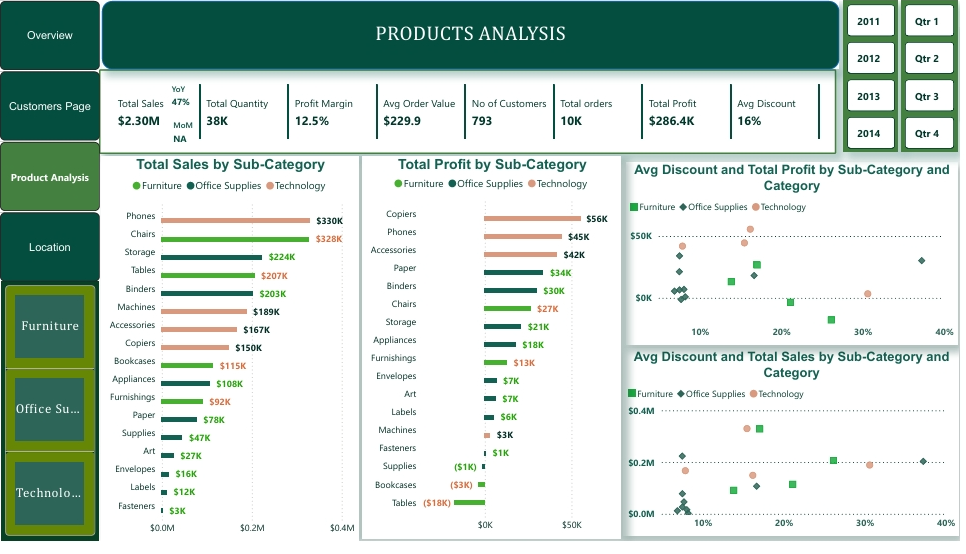

The page's visual inventory and layout, read from the dashboard file:
{"tool":"powerbi","page":{"name":"Product Analysis","canvas":[1280,720],"ordinal":2},"visuals":[{"type":"scatterChart","fields":{"X":["Superstore Sales.Avg Discount"],"Y":["Superstore Sales.Total Sales"],"Category":["Products.Sub-Category"],"Series":["Products.Category"]},"box":[831.5,464.1,447.9,250.3],"z":0},{"type":"cardVisual","fields":{"Data":["Superstore Sales.Total Sales","Superstore Sales.Total Quantity","Superstore Sales.Profit Margin","Superstore Sales.Avg Order Value","Count(Superstore Sales.Customer ID)","Superstore Sales.Total orders","Customer.Total Profit","Superstore Sales.Avg Discount"]},"box":[132.3,90.7,982.7,113.4],"z":1000},{"type":"advancedSlicerVisual","fields":{"Values":["DimDate.Order Date.Variation.Date Hierarchy.Year"]},"box":[1125.4,0,73.3,202.4],"z":2000,"group":"g3"},{"type":"scatterChart","fields":{"X":["Superstore Sales.Avg Discount"],"Category":["Products.Sub-Category"],"Series":["Products.Category"],"Y":["Customer.Total Profit"]},"box":[835.3,215.4,442.2,243.8],"z":2000},{"type":"shape","box":[136.1,0,982.7,90.7],"z":3000},{"type":"advancedSlicerVisual","fields":{"Values":["DimDate.Order Date.Variation.Date Hierarchy.Quarter"]},"box":[1202.4,0,75.2,202.4],"z":3000,"group":"g3"},{"type":"cardVisual","fields":{"Data":["DimDate.YoY"]},"box":[207.5,98,81.3,54.9],"z":4000,"group":"g2"},{"type":"clusteredBarChart","title":"Total Sales by Sub-Category","fields":{"Category":["Products.Sub-Category"],"Y":["Superstore Sales.Total Sales"],"Series":["Products.Category"]},"box":[136,207.3,343.3,513.3],"z":4000},{"type":"cardVisual","fields":{"Data":["DimDate.MoM"]},"box":[209.5,147,79.3,54.9],"z":5000,"group":"g2"},{"type":"advancedSlicerVisual","fields":{"Values":["Products.Category"]},"box":[1.9,374.2,130.4,345.8],"z":5000},{"type":"clusteredBarChart","title":"Total Profit by Sub-Category","fields":{"Category":["Products.Sub-Category"],"Series":["Products.Category"],"Y":["Customer.Total Profit"]},"box":[484.1,207.3,344.9,510.1],"z":6000},{"type":"group","id":"g1","title":"Group 2","box":[207.5,98,81.3,103.9],"z":7000},{"type":"group","id":"g2","title":"Group 3","box":[207.5,98,81.3,103.9],"z":7001,"group":"g1"},{"type":"group","id":"g3","title":"Group 3","box":[1125.4,0,152.2,202.4],"z":8000},{"type":"pageNavigator","box":[0,0,133,374.2],"z":9000}]}

Visuals, with their boxes in screenshot pixels (x1, y1, x2, y2), scaled from the page's 1280x720 canvas onto the 966x554 screenshot:
scatterChart - Superstore Sales.Avg Discount x Superstore Sales.Total Sales: {"x1": 628, "y1": 357, "x2": 965, "y2": 550}
cardVisual - Superstore Sales.Total Sales x Superstore Sales.Total Quantity: {"x1": 100, "y1": 70, "x2": 841, "y2": 157}
advancedSlicerVisual - DimDate.Order Date.Variation.Date Hierarchy.Year: {"x1": 849, "y1": 0, "x2": 905, "y2": 156}
scatterChart - Superstore Sales.Avg Discount x Products.Sub-Category: {"x1": 630, "y1": 166, "x2": 964, "y2": 353}
shape: {"x1": 103, "y1": 0, "x2": 844, "y2": 70}
advancedSlicerVisual - DimDate.Order Date.Variation.Date Hierarchy.Quarter: {"x1": 907, "y1": 0, "x2": 964, "y2": 156}
cardVisual - DimDate.YoY: {"x1": 157, "y1": 75, "x2": 218, "y2": 118}
"Total Sales by Sub-Category" clusteredBarChart: {"x1": 103, "y1": 160, "x2": 362, "y2": 553}
cardVisual - DimDate.MoM: {"x1": 158, "y1": 113, "x2": 218, "y2": 155}
advancedSlicerVisual - Products.Category: {"x1": 1, "y1": 288, "x2": 100, "y2": 553}
"Total Profit by Sub-Category" clusteredBarChart: {"x1": 365, "y1": 160, "x2": 626, "y2": 552}
"Group 2" group: {"x1": 157, "y1": 75, "x2": 218, "y2": 155}
"Group 3" group: {"x1": 157, "y1": 75, "x2": 218, "y2": 155}
"Group 3" group: {"x1": 849, "y1": 0, "x2": 964, "y2": 156}
pageNavigator: {"x1": 0, "y1": 0, "x2": 100, "y2": 288}
